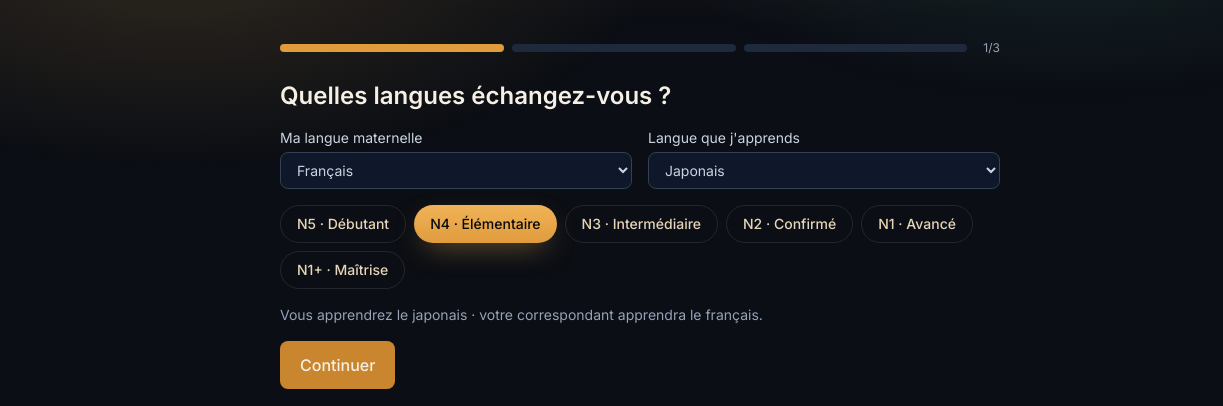
Wizard › affiche la progression 1/3 et désactive Continuer si les langues sont identiques
The width and height of the screenshot is (1223, 406).
Expected: the text "1/3" is shown, [983,40,1000,56]
Select "Français" in the dropdown labelled "Langue que j'apprends" at (824, 170), box [648,152,1000,189]
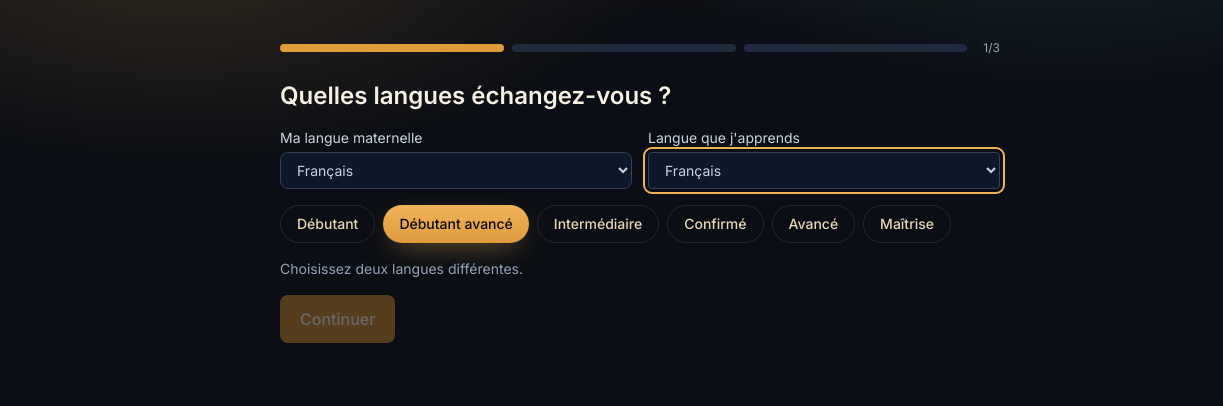
Expected: the button "Continuer" is disabled, [280,295,395,343]
